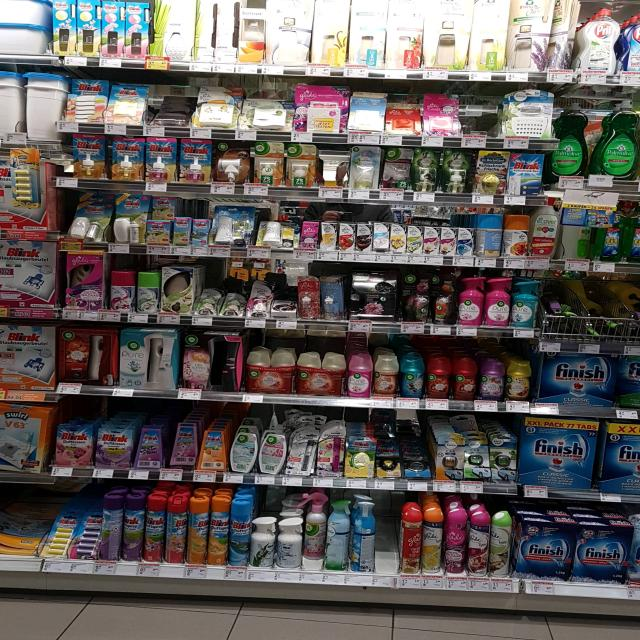empty: (375, 488, 403, 578), (314, 140, 349, 196)
